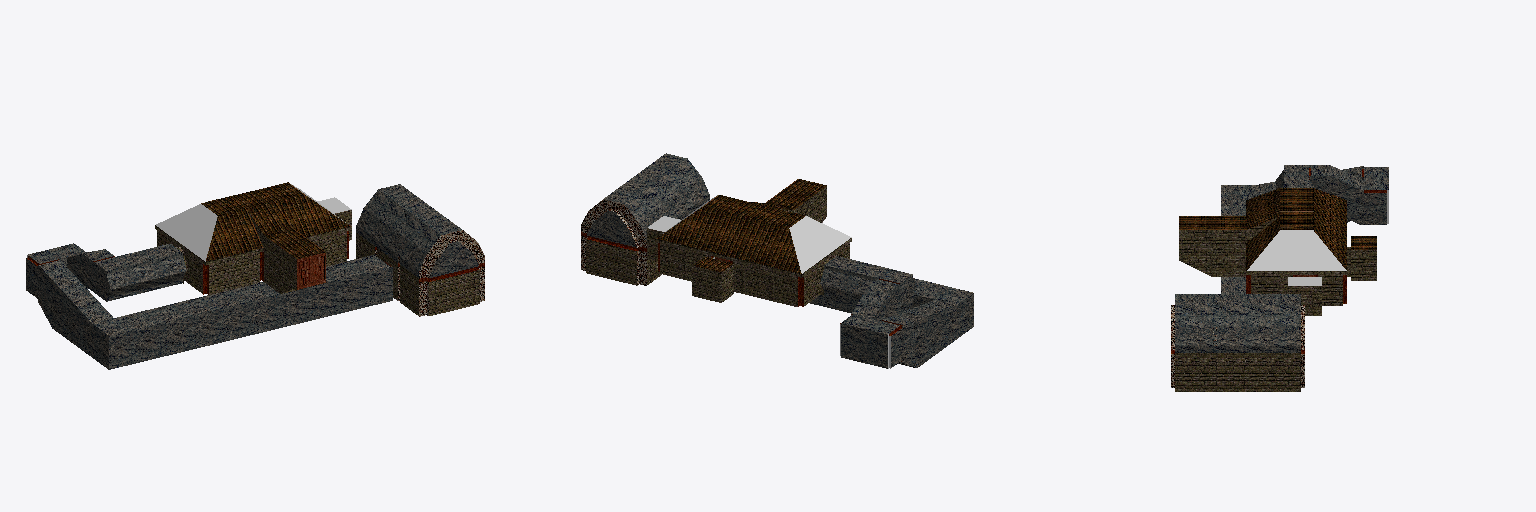
3 renders of one model, left to right at view 1: azimuth 30°, elevation 25°; view 2: azimuth 150°, elevation 25°; view 3: azimuth 270°, elevation 25°, orthographic.
Visible parts, largest first — view 1: Room1, Room3, Room4; view 2: Room1, Room4, Room3, Room2; view 3: Room1, Room4, Room3, Room2.
Boxes of the visible parts, x1=… form: Room1: x1=84, y1=182, x2=351, y2=301; Room3: x1=26, y1=243, x2=392, y2=369; Room4: x1=356, y1=184, x2=484, y2=316; Room1: x1=647, y1=179, x2=916, y2=316; Room4: x1=581, y1=153, x2=709, y2=285; Room3: x1=810, y1=278, x2=973, y2=368; Room2: x1=692, y1=257, x2=733, y2=302; Room1: x1=1179, y1=165, x2=1346, y2=315; Room4: x1=1171, y1=294, x2=1304, y2=391; Room3: x1=1221, y1=165, x2=1388, y2=293; Room2: x1=1347, y1=236, x2=1376, y2=280.
Bounding box in the file's own units: 3104 × 832 × 1664.
Materials: 38 (31 with a texture image).